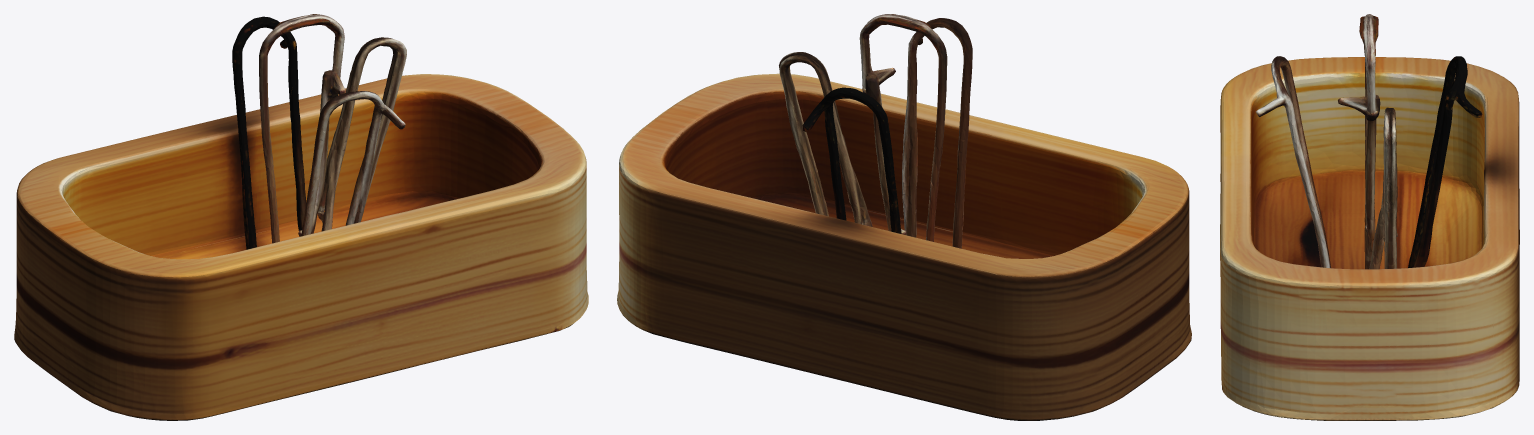
The model's file is bamboo-paperclip-holder-organic hi-res.jpeg.glb.
3 renders of one model, left to right at view 1: azimuth 30°, elevation 25°; view 2: azimuth 150°, elevation 25°; view 3: azimuth 270°, elevation 25°, orthographic. The views are drawn at different scales.
Visible parts, largest first — view 1: world; view 2: world; view 3: world.
Boxes of the visible parts, x1,y1,x2,y2 form: world: (14,14,588,420); world: (617,14,1191,420); world: (1220,14,1519,420).
Size of the model in its own units: 1 by 0.6097 by 0.5553.
1 material, 1 textured.
